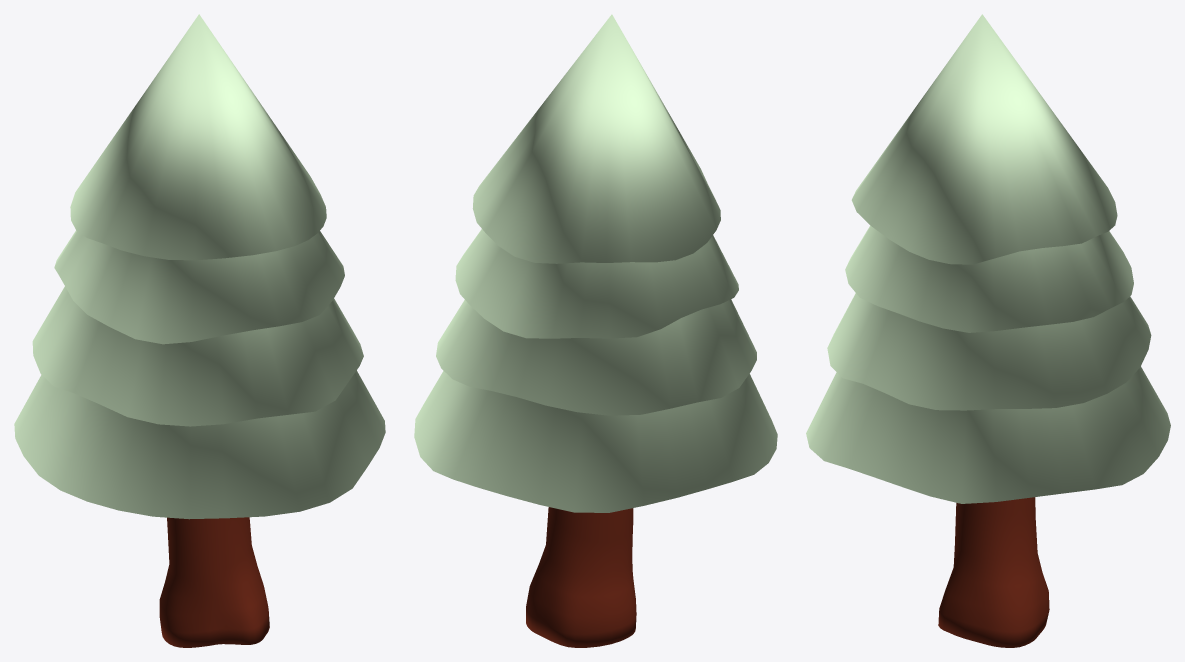
The model's file is PineTree.fbx.
3 renders of one model, left to right at view 1: azimuth 30°, elevation 25°; view 2: azimuth 150°, elevation 25°; view 3: azimuth 270°, elevation 25°, orthographic. The views are drawn at different scales.
Parts seen in each view (by area): view 1: Cylinder; view 2: Cylinder; view 3: Cylinder.
Part boxes in pixels (left/top/right/bottom): Cylinder: left=14, top=14, right=385, bottom=647; Cylinder: left=414, top=14, right=777, bottom=647; Cylinder: left=806, top=14, right=1170, bottom=647.
Bounding box in the file's own units: 898 × 1666 × 915.
